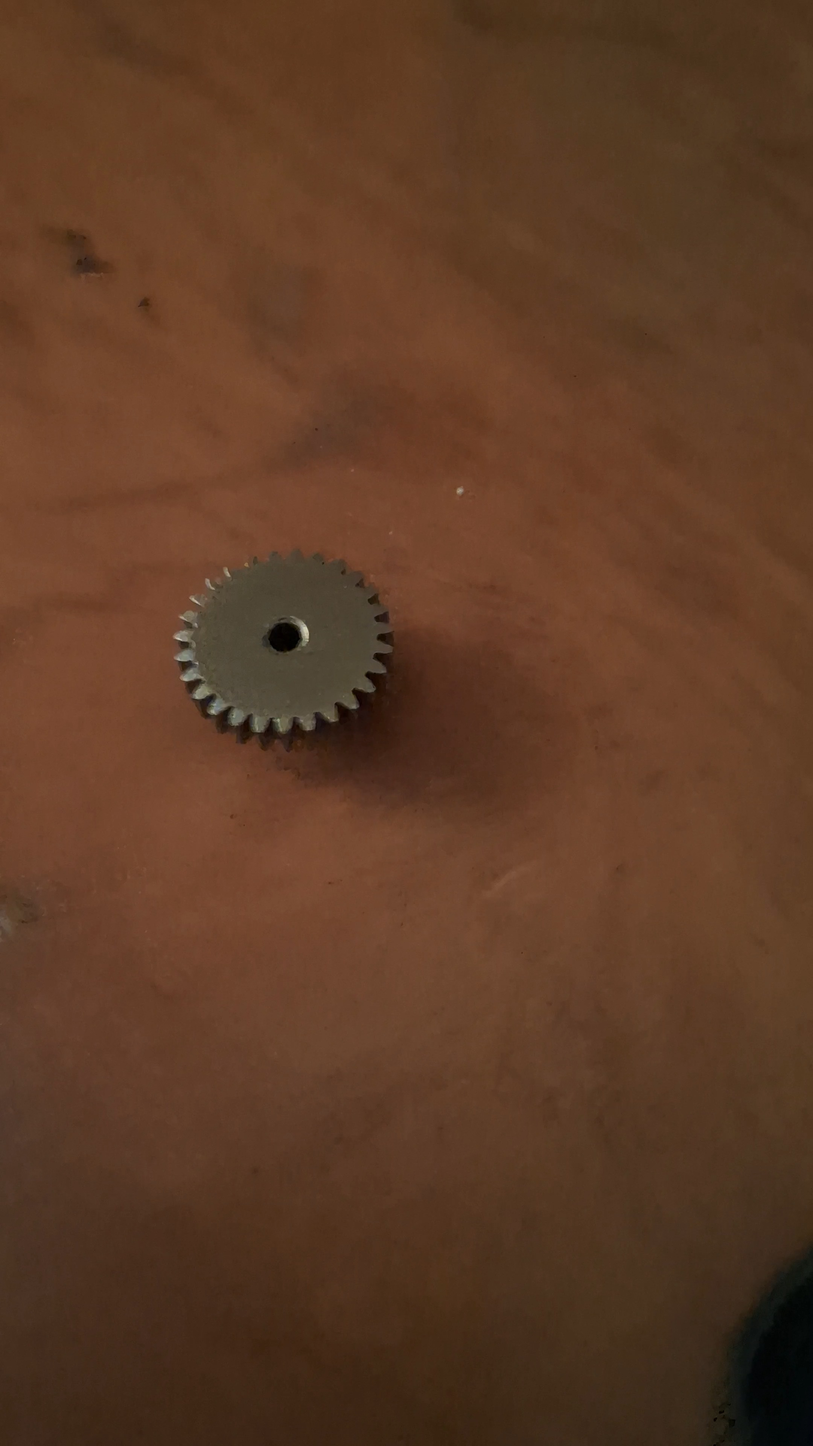spur gear: (174, 551, 392, 741)
